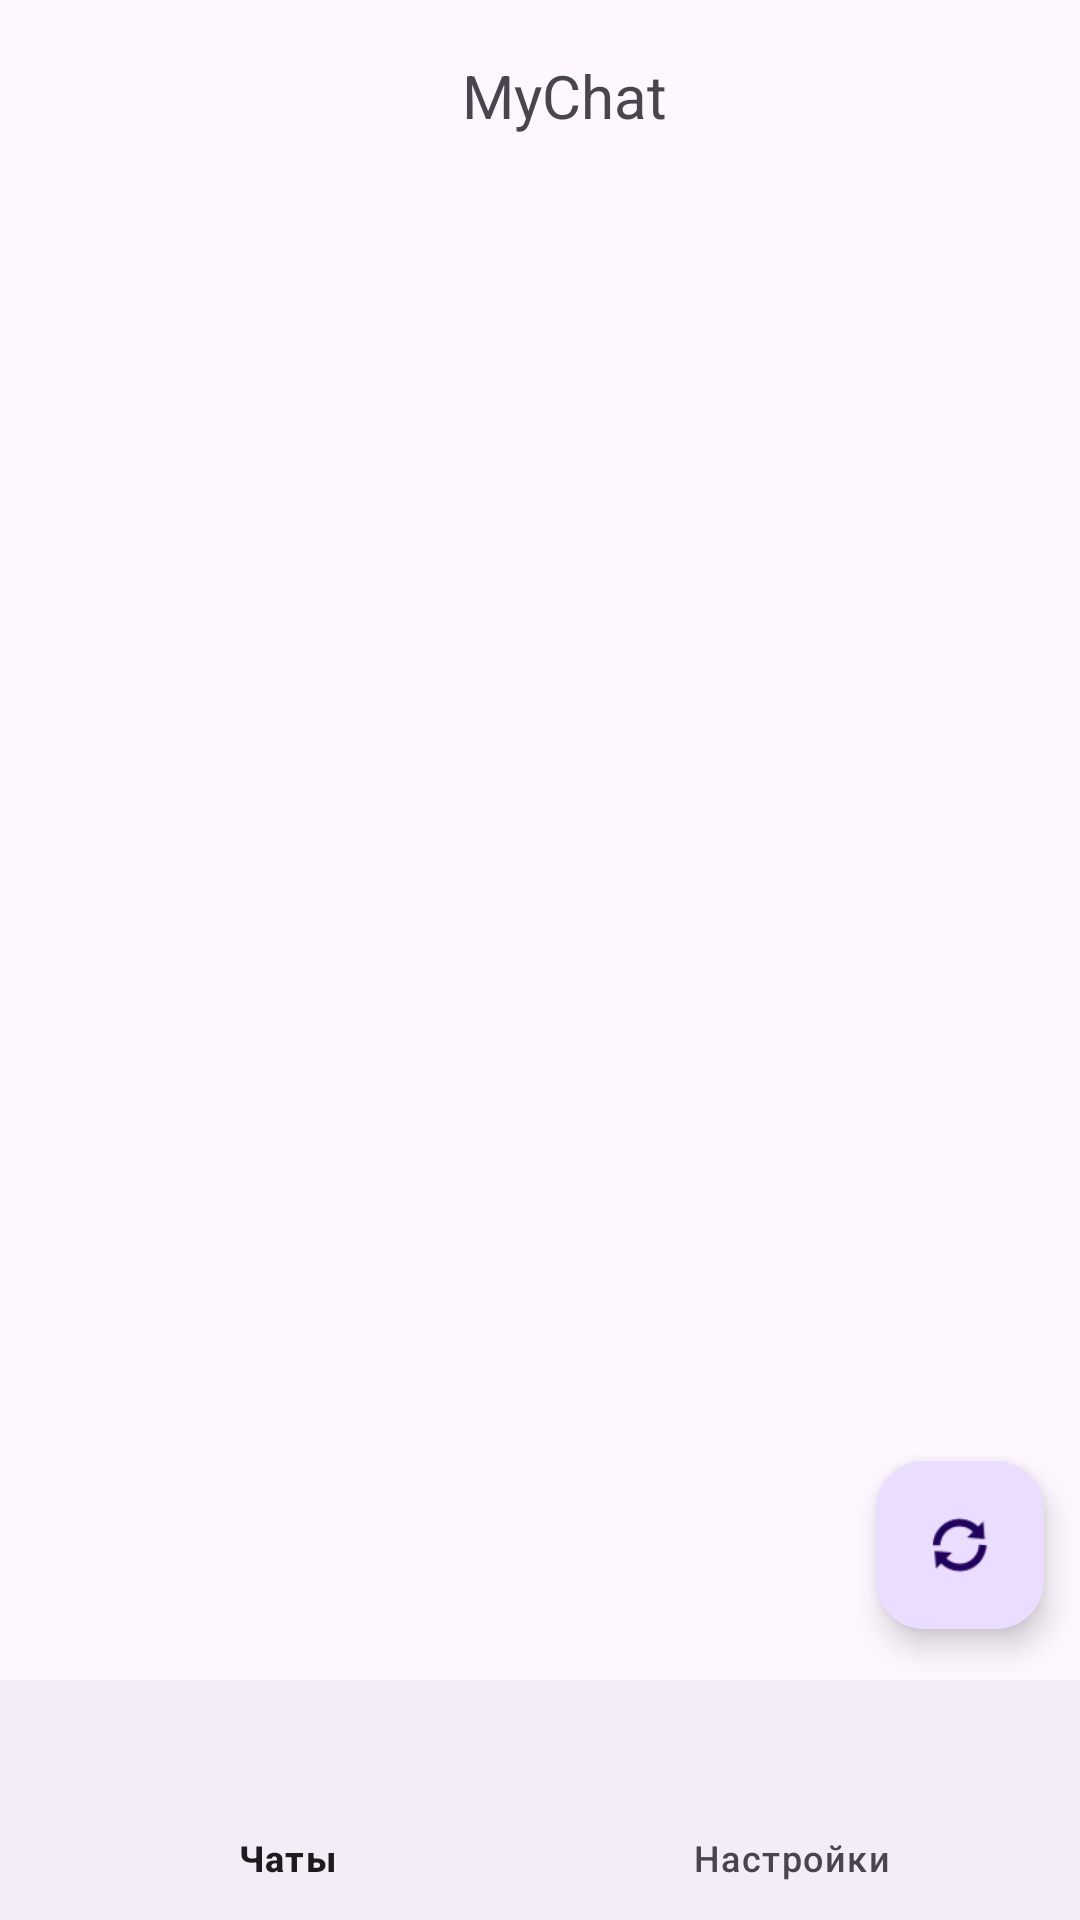

Where icons sit on this 1080px×1920px app screen, as (x1, y1, x2, y2):
popup sync: (876, 1461, 1044, 1629)
